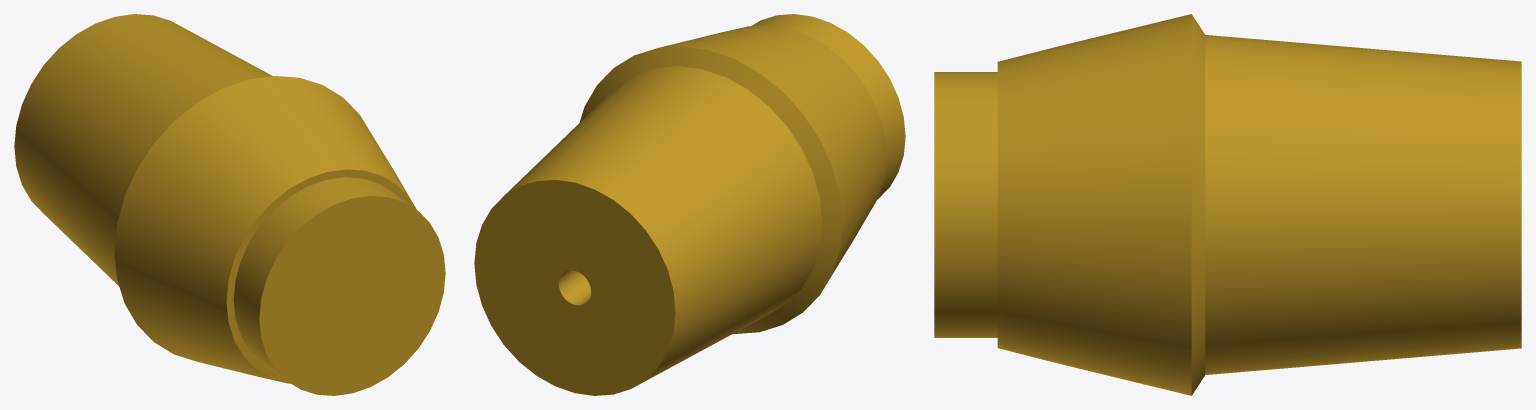
File: Abutment.fbx
3 views of the same model, side by side, from view 1: azimuth 30°, elevation 25°; view 2: azimuth 150°, elevation 25°; view 3: azimuth 270°, elevation 25° (orthographic). The views are drawn at different scales.
Visible parts, largest first — view 1: Abutment; view 2: Abutment; view 3: Abutment.
Boxes of the visible parts, x1,y1,x2,y2 form: Abutment: (14,14,445,395); Abutment: (474,14,905,395); Abutment: (934,14,1521,395).
Size of the model in its own units: 0.992 by 0.992 by 1.52.
